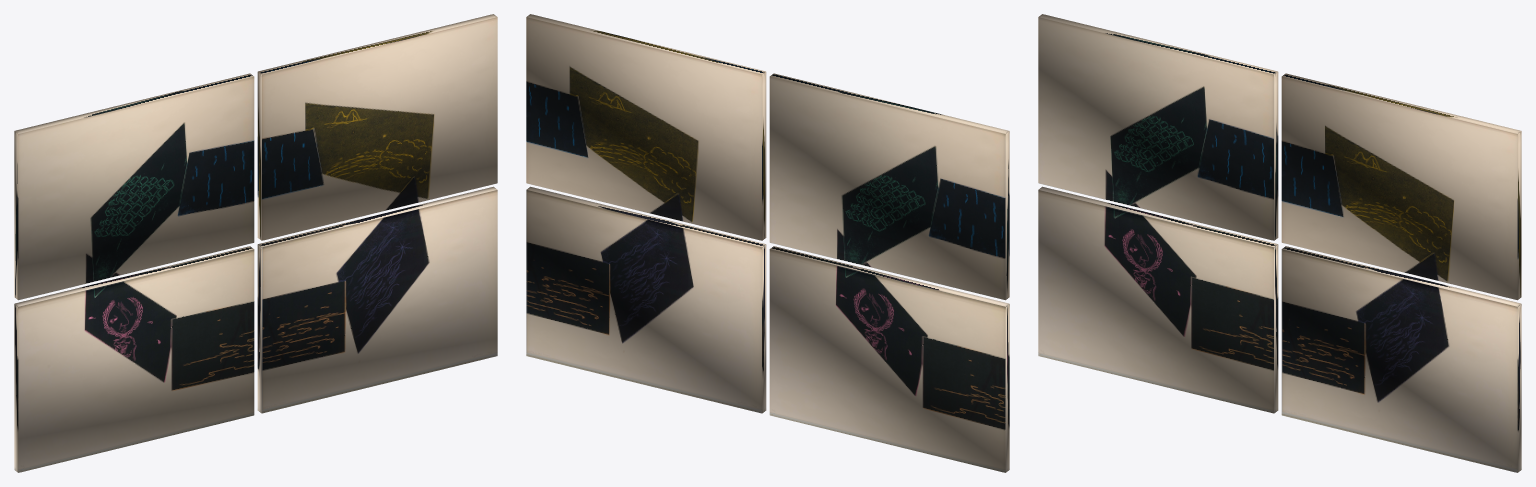
Rendered from Pintura6.obj.
3 renders of one model, left to right at view 1: azimuth 30°, elevation 25°; view 2: azimuth 150°, elevation 25°; view 3: azimuth 330°, elevation 25°, orthographic.
Visible parts, largest first — view 1: Box053; view 2: Box053; view 3: Box053.
Part boxes in pixels (x1,y1,x2,y2): Box053: [14, 14, 497, 472]; Box053: [526, 14, 1009, 472]; Box053: [1038, 14, 1521, 472].
Bounding box in the file's own units: 35.35 × 23.88 × 0.5415.
